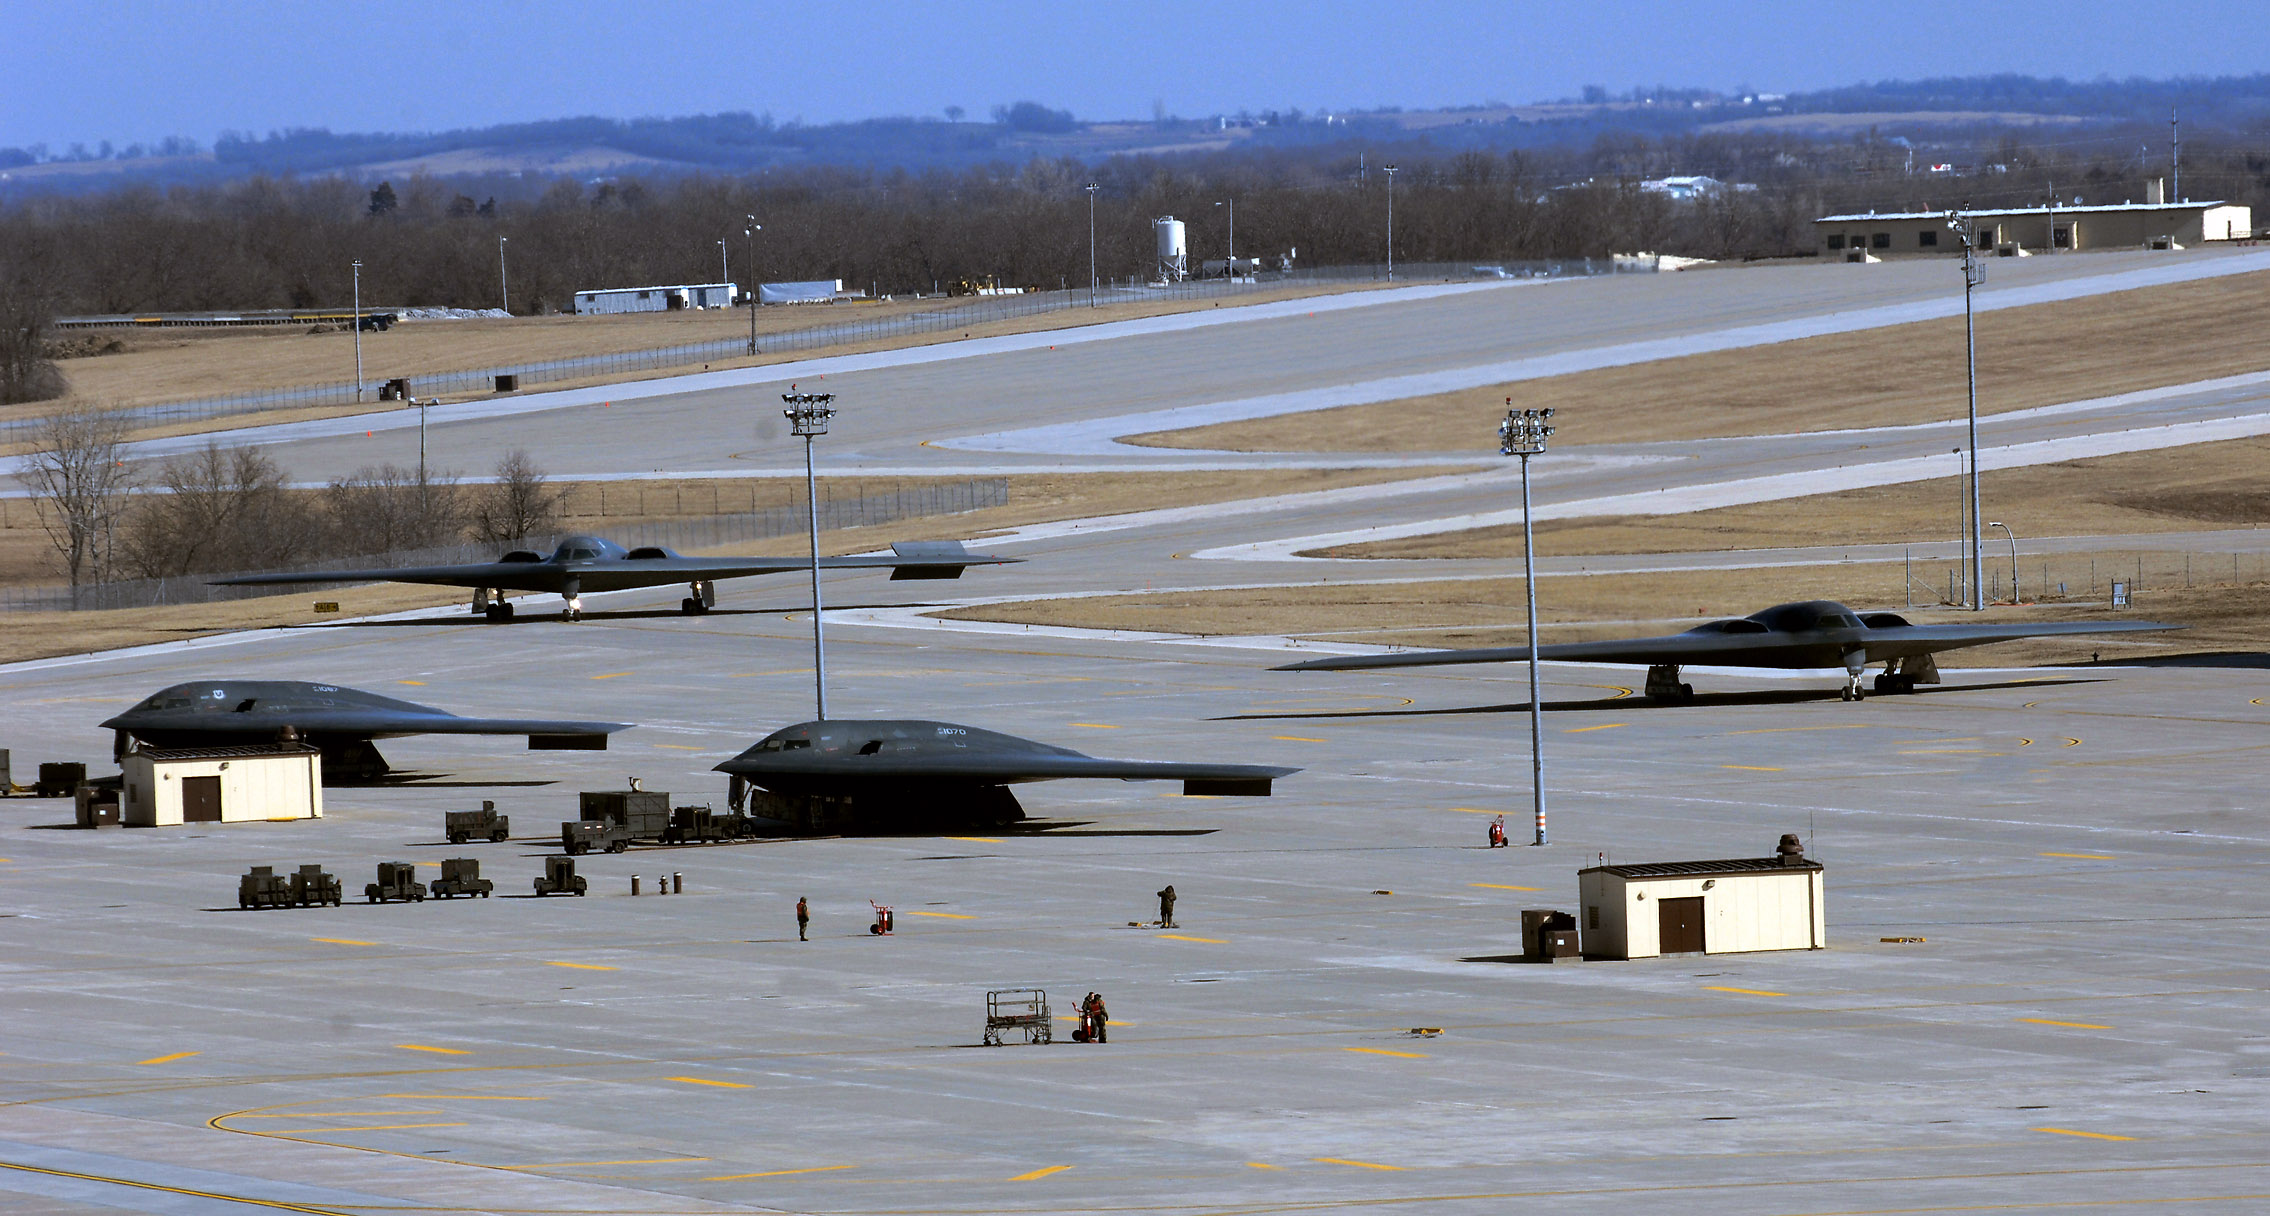B2: (1263, 599, 2193, 707), (200, 534, 1028, 625), (709, 718, 1306, 836), (98, 680, 638, 787)
